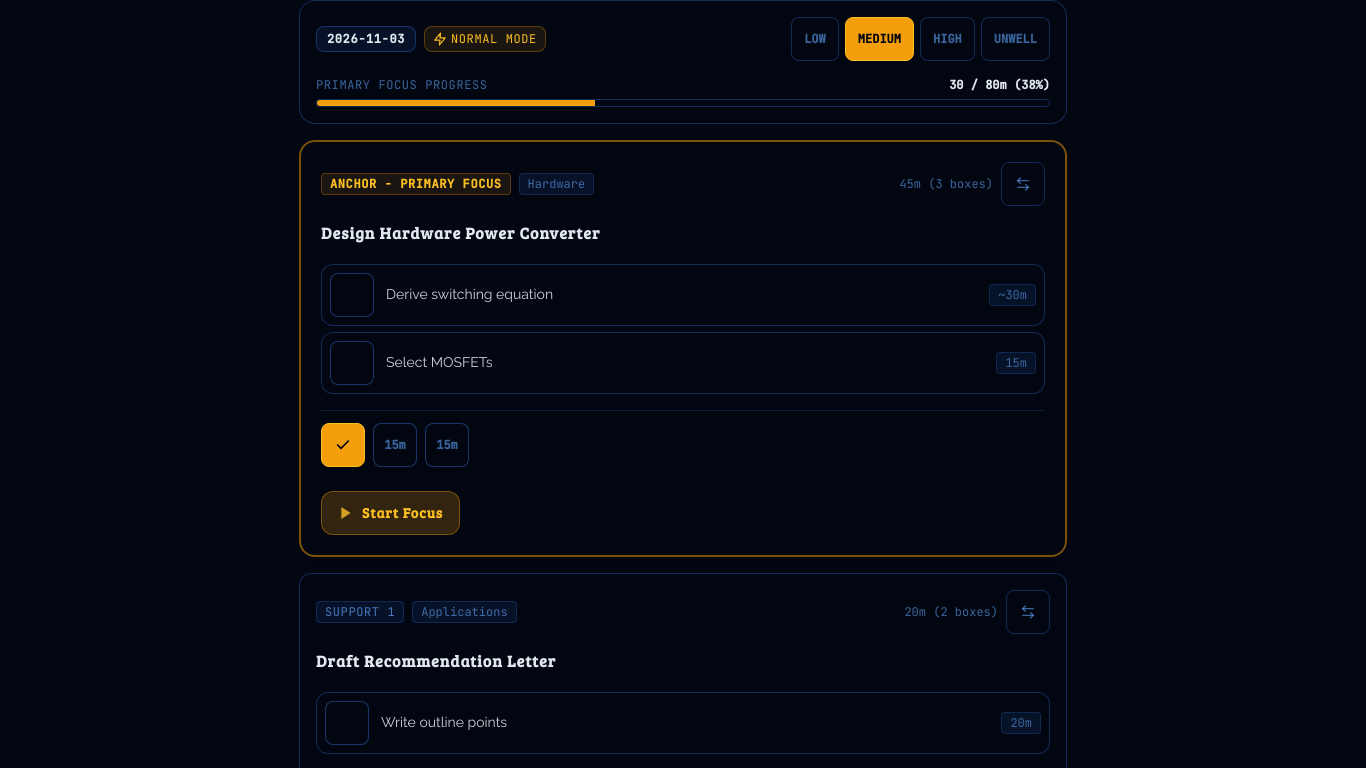
Test: Sprint C2: Day Plan Board UI Component Test Suite › Swap Slot Modal Component › opens modal, renders eligible candidate parent tasks, and invokes swapSlot
Note: Open swap modal for Slot 1
Click the button with test id "swap-slot-1". click: click(1023, 184)
box: [1001,162,1045,206]
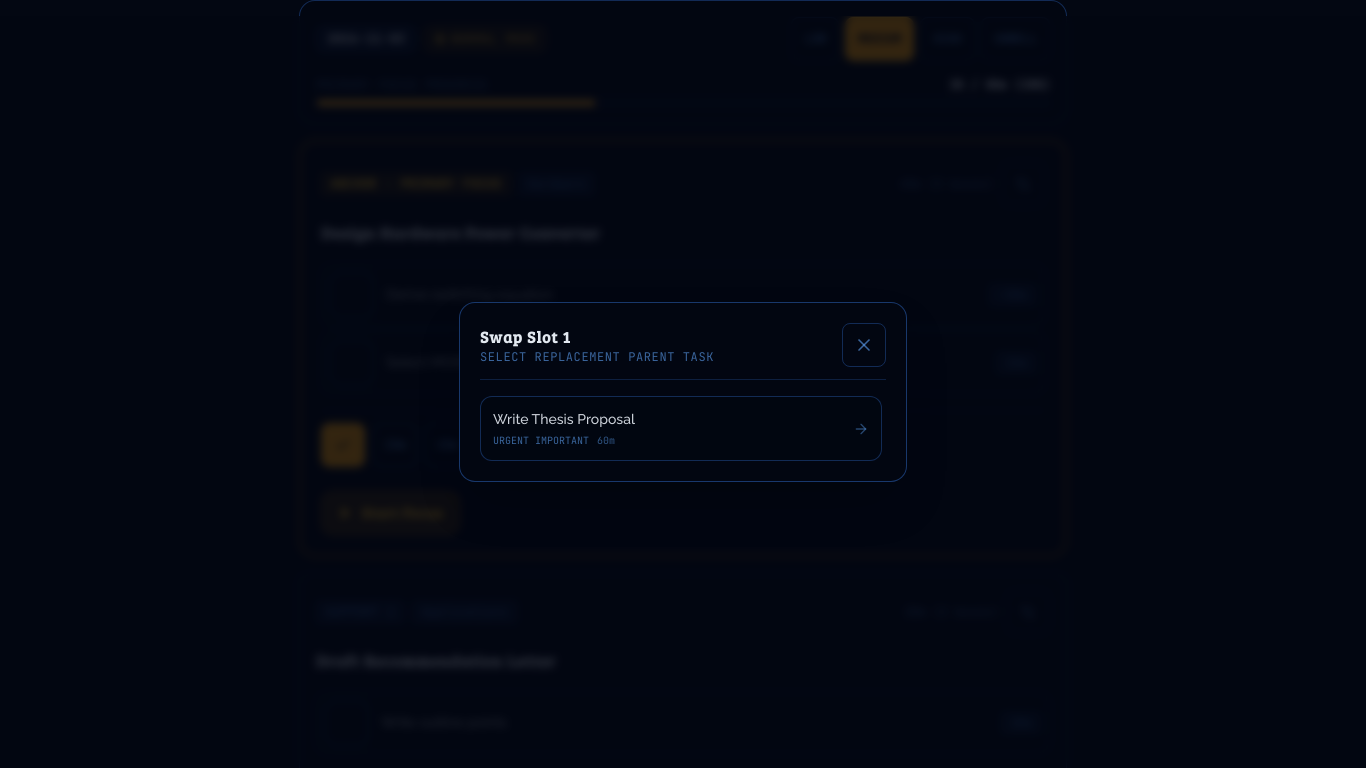
Check: the dialog with test id "swap-slot-modal" is shown
Check: the heading "Swap Slot 1" is shown, box [480,326,571,347]
Check: the text "Write Thesis Proposal" is shown, box [493,411,635,427]
Click the button with test id "swap-candidate-parent-backlog-1". click: click(564, 419)
box: [480,396,882,461]
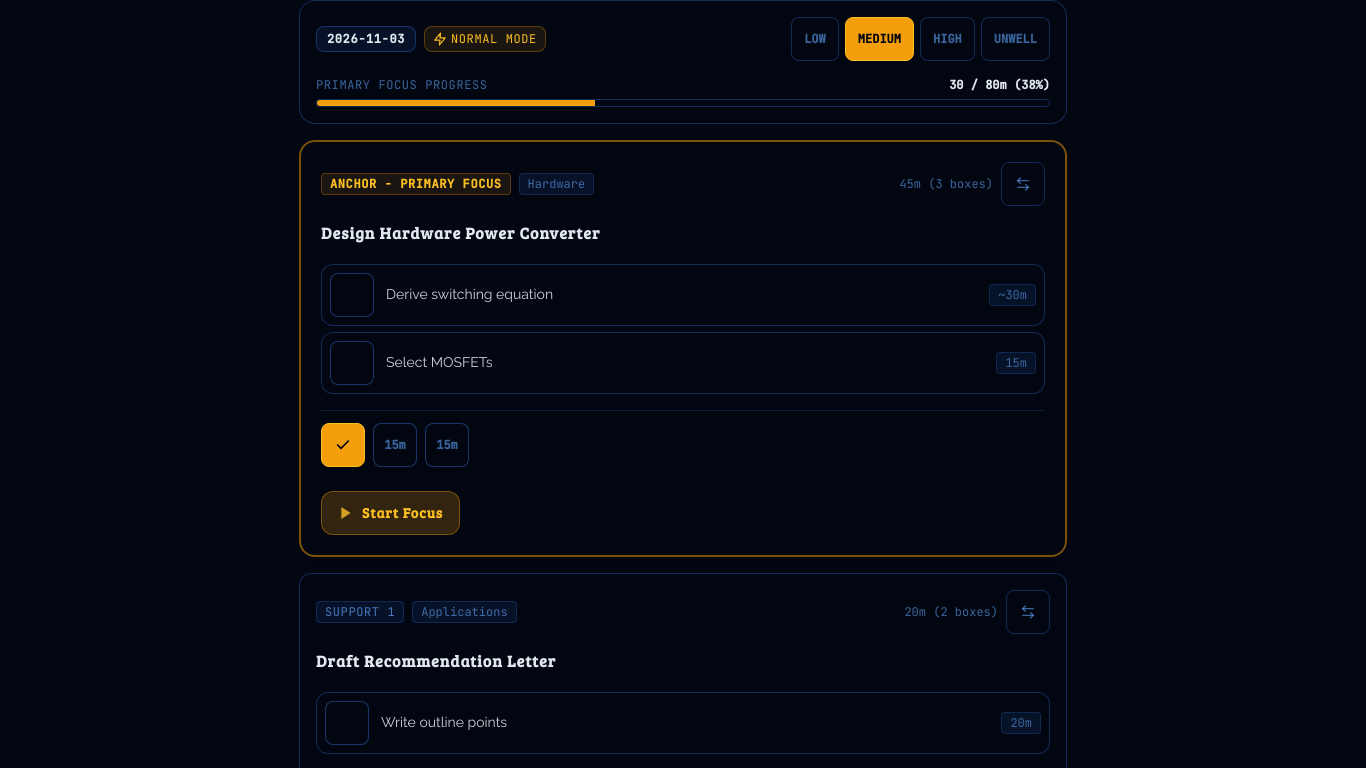
Check: the dialog with test id "swap-slot-modal" is gone
